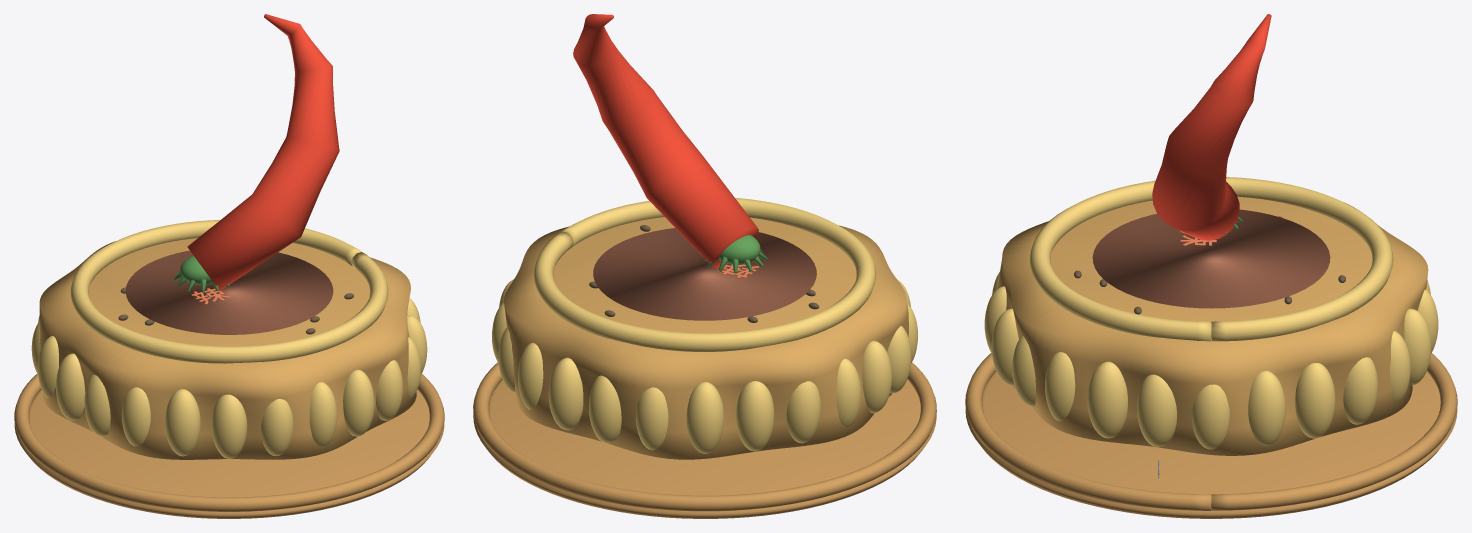
The model's file is K04_Chili_Mooncake_Catastrophe.glb.
The picture shows the model from 3 angles, left to right: view 1: azimuth 30°, elevation 25°; view 2: azimuth 150°, elevation 25°; view 3: azimuth 270°, elevation 25°; orthographic projection. The views are drawn at different scales.
Visible parts, largest first — view 1: K04 scalloped baked mooncake first-class round body, K04_MOONCAKE_ACTOR | Mooncake embossed toasted raised golden, K04_TRAY_ACTOR | Chef copper serving tray, K04 real irregular curved ghost chili pepper, K04 actual inset baking caramel mooncake core, K04_CHILI_ACTOR | Pepper stem vivid leaf forest green; view 2: K04 scalloped baked mooncake first-class round body, K04_MOONCAKE_ACTOR | Mooncake embossed toasted raised golden, K04_TRAY_ACTOR | Chef copper serving tray, K04 real irregular curved ghost chili pepper, K04 actual inset baking caramel mooncake core, K04_CHILI_ACTOR | Pepper stem vivid leaf forest green; view 3: K04 scalloped baked mooncake first-class round body, K04_MOONCAKE_ACTOR | Mooncake embossed toasted raised golden, K04_TRAY_ACTOR | Chef copper serving tray, K04 actual inset baking caramel mooncake core, K04 real irregular curved ghost chili pepper.
Part boxes in pixels (bbox=[...]): K04 scalloped baked mooncake first-class round body: bbox=[39, 238, 416, 459]; K04_MOONCAKE_ACTOR | Mooncake embossed toasted raised golden: bbox=[31, 220, 427, 458]; K04_TRAY_ACTOR | Chef copper serving tray: bbox=[14, 373, 444, 518]; K04 real irregular curved ghost chili pepper: bbox=[187, 14, 339, 290]; K04 actual inset baking caramel mooncake core: bbox=[125, 250, 333, 334]; K04_CHILI_ACTOR | Pepper stem vivid leaf forest green: bbox=[173, 255, 229, 292]; K04 scalloped baked mooncake first-class round body: bbox=[504, 217, 908, 459]; K04_MOONCAKE_ACTOR | Mooncake embossed toasted raised golden: bbox=[492, 198, 917, 453]; K04_TRAY_ACTOR | Chef copper serving tray: bbox=[473, 362, 936, 518]; K04 real irregular curved ghost chili pepper: bbox=[573, 14, 758, 268]; K04 actual inset baking caramel mooncake core: bbox=[593, 228, 816, 320]; K04_CHILI_ACTOR | Pepper stem vivid leaf forest green: bbox=[703, 235, 767, 273]; K04 scalloped baked mooncake first-class round body: bbox=[998, 196, 1428, 455]; K04_MOONCAKE_ACTOR | Mooncake embossed toasted raised golden: bbox=[984, 177, 1438, 449]; K04_TRAY_ACTOR | Chef copper serving tray: bbox=[965, 353, 1457, 518]; K04 actual inset baking caramel mooncake core: bbox=[1092, 209, 1330, 308]; K04 real irregular curved ghost chili pepper: bbox=[1152, 14, 1271, 240].
Bounding box in the file's own units: 1.78 × 1.79 × 1.78.
